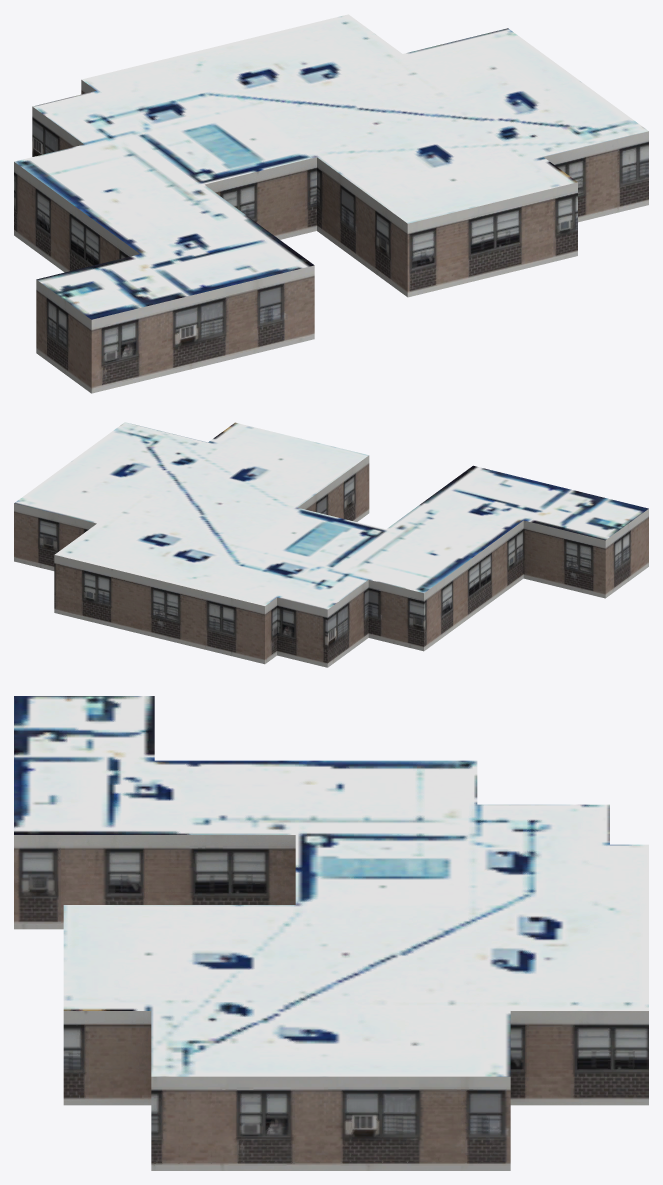
Rendered from Building9.gltf.
3 views of the same model, one above another, from view 1: azimuth 30°, elevation 25°; view 2: azimuth 150°, elevation 25°; view 3: azimuth 270°, elevation 25° (orthographic). The views are drawn at different scales.
Parts seen in each view (by area): view 1: Building9; view 2: Building9; view 3: Building9.
Boxes of the visible parts, box(x1,y1,x2,y2) form: Building9: box(14, 14, 648, 393); Building9: box(14, 422, 648, 667); Building9: box(14, 696, 648, 1170).
Bounding box in the file's own units: 43.35 × 5 × 30.56.
Materials: 1 (1 with a texture image).
